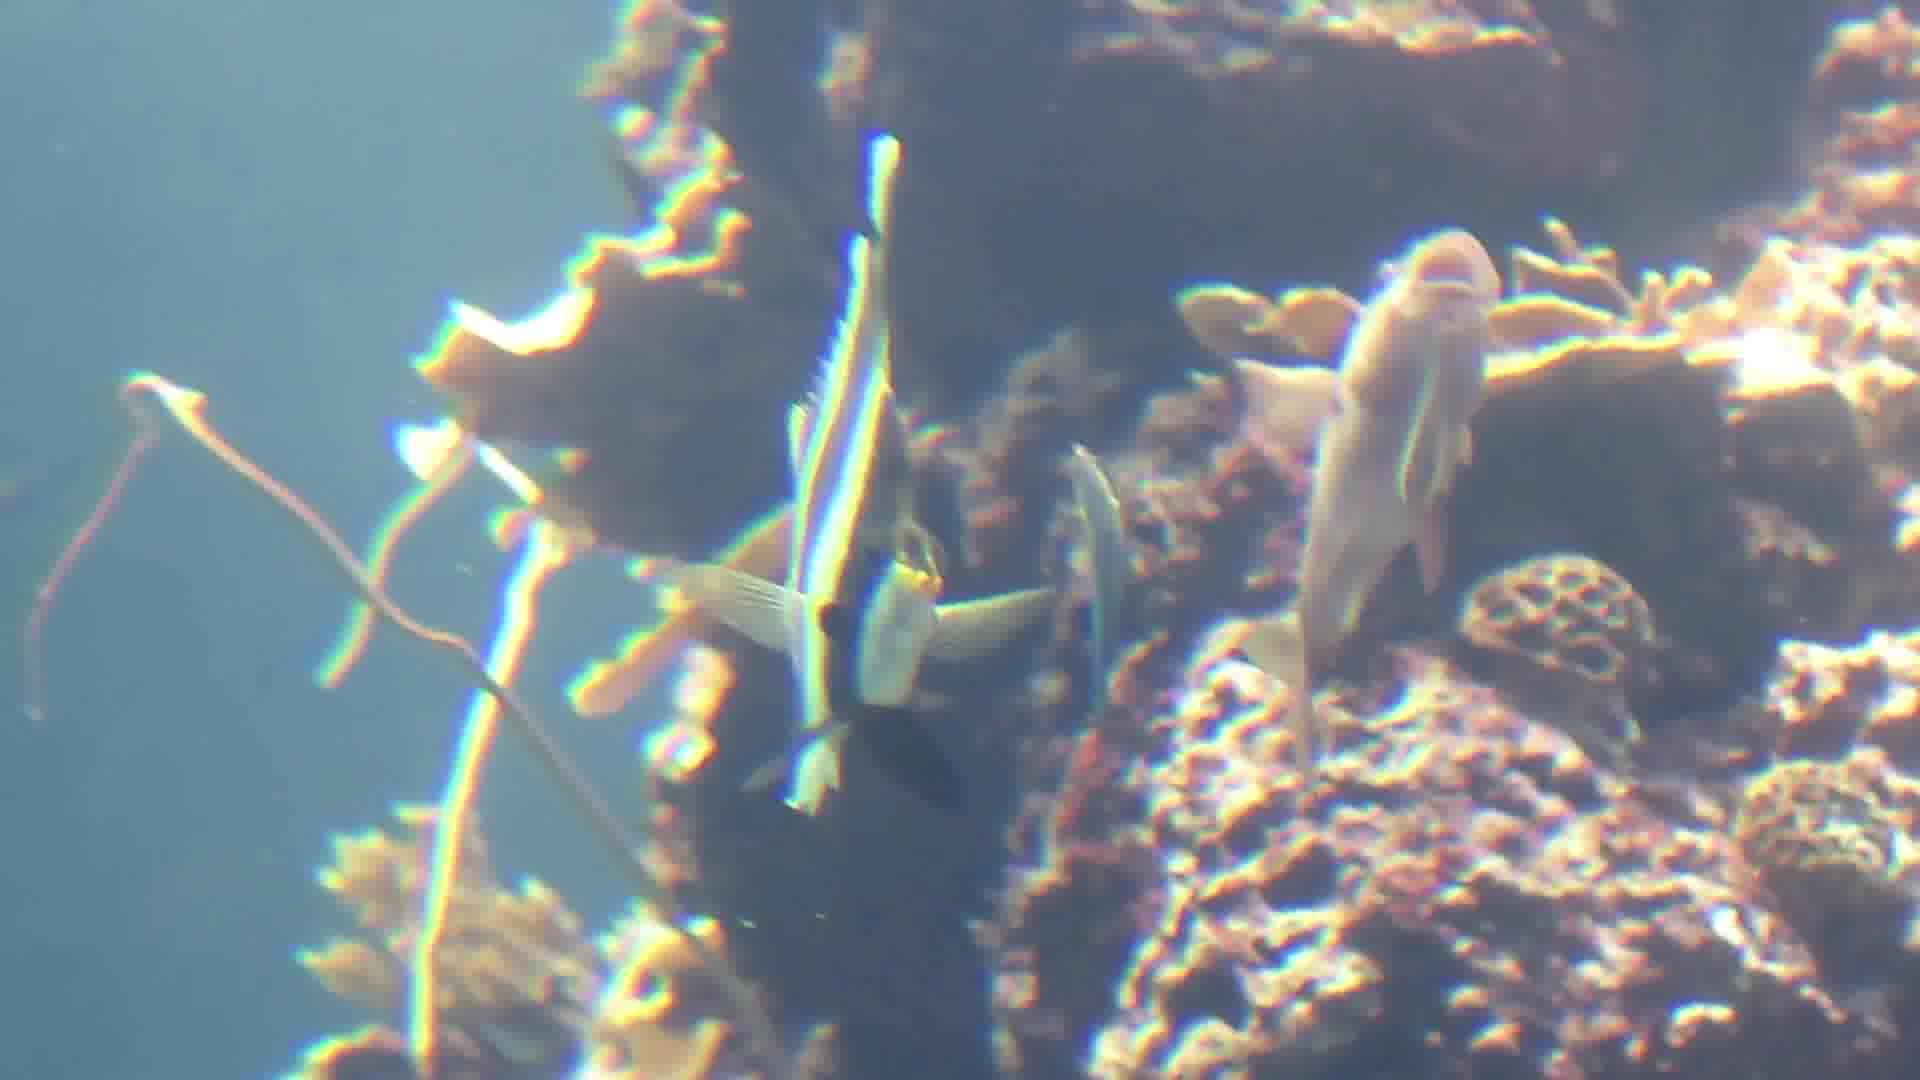Heniochus chrysostomus: (620, 117, 1063, 861)
